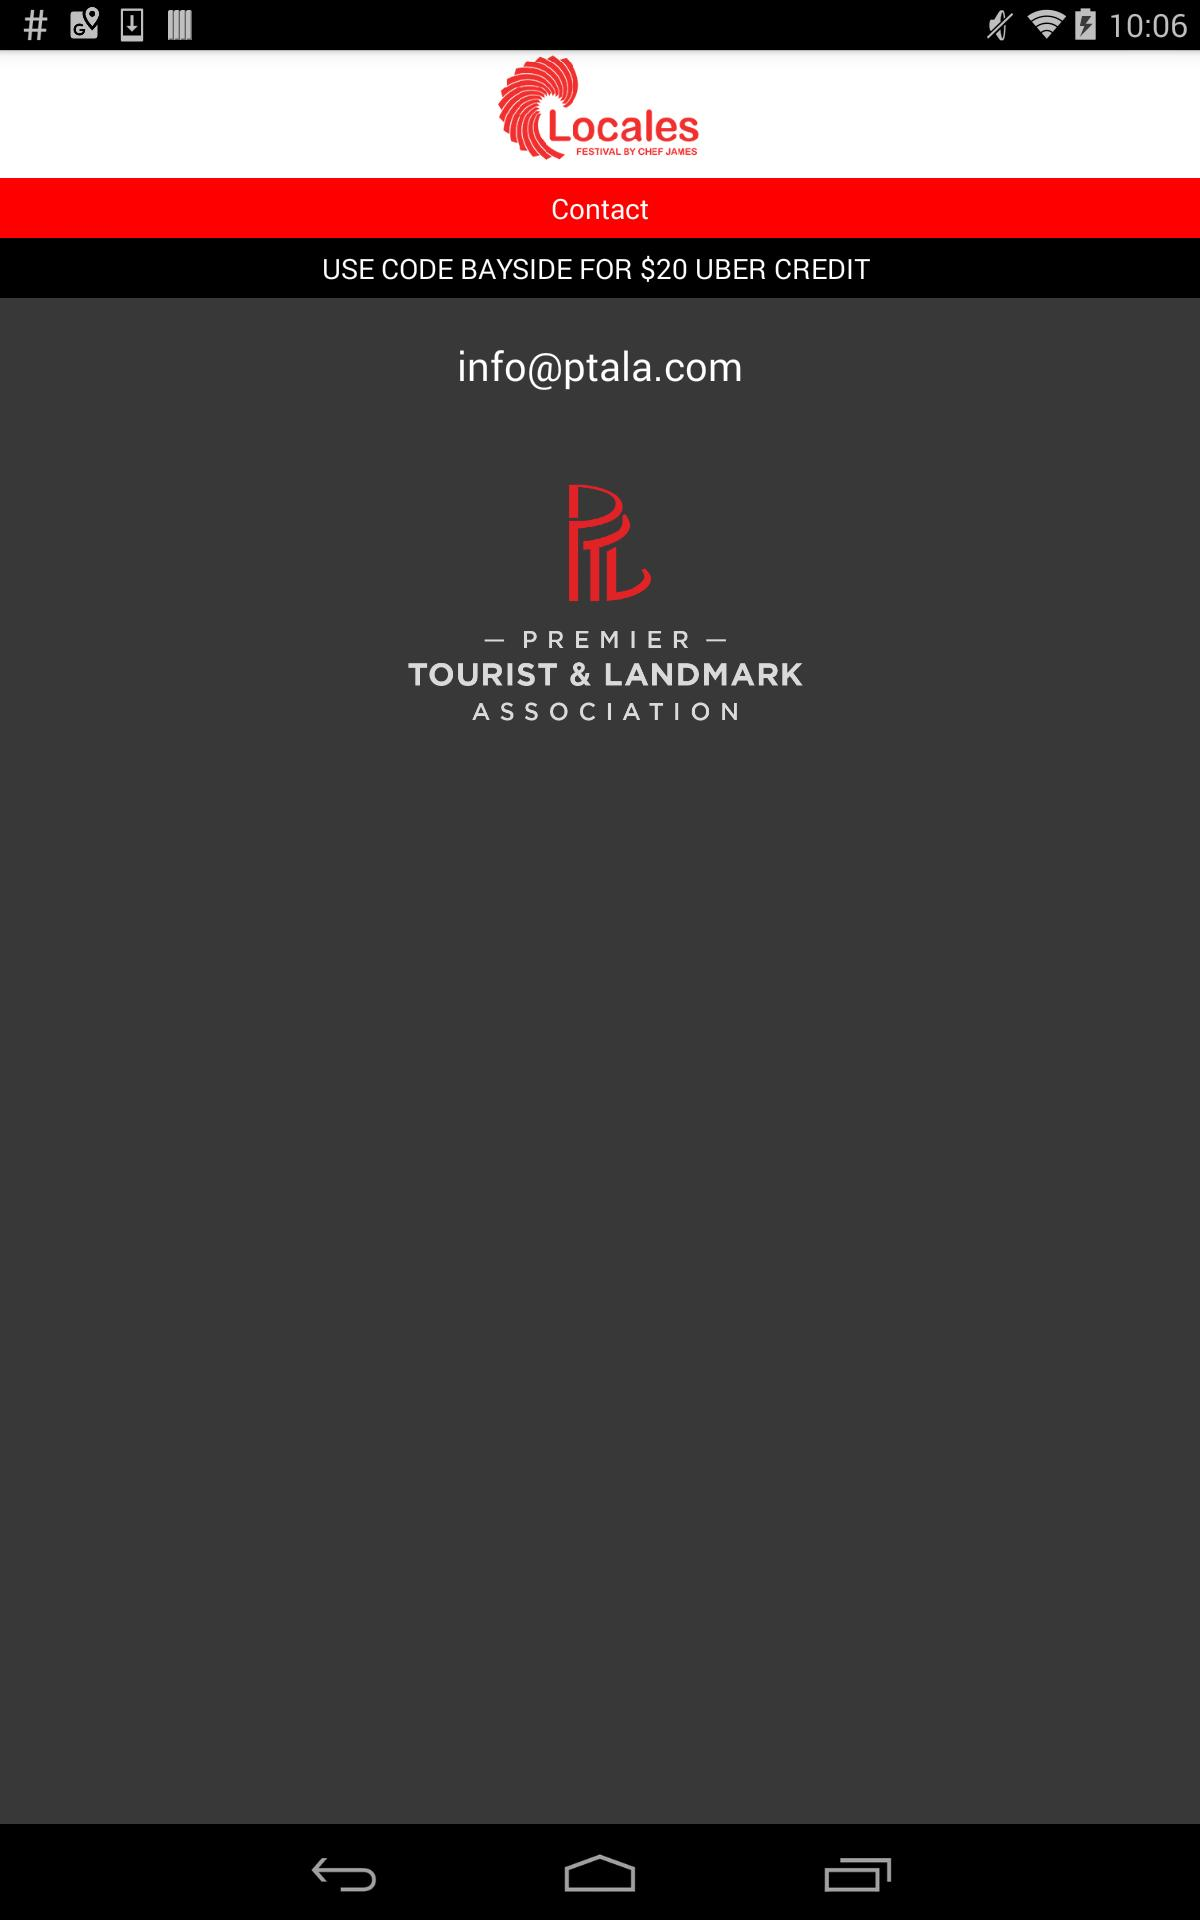android.support.v4.widget.DrawerLayout: (0, 50, 1200, 1825)
android.view.View: (0, 50, 1200, 1825), (0, 178, 1200, 1825), (0, 433, 1200, 771), (0, 50, 1200, 178), (0, 238, 1200, 299), (0, 178, 1200, 238), (40, 339, 1160, 393), (0, 50, 1200, 100)
android.widget.FrameLayout: (0, 0, 1200, 1825), (0, 50, 1200, 1825)
android.widget.ImageButton: (17, 50, 129, 178)
android.widget.ImageView: (0, 433, 1200, 771), (451, 50, 749, 178)
android.widget.LinearLayout: (0, 0, 1200, 1825), (0, 50, 1200, 1825)
android.widget.RelativeLayout: (0, 50, 1200, 1825)
android.widget.TextView: (0, 238, 1200, 299), (0, 178, 1200, 238), (40, 339, 1160, 393)
